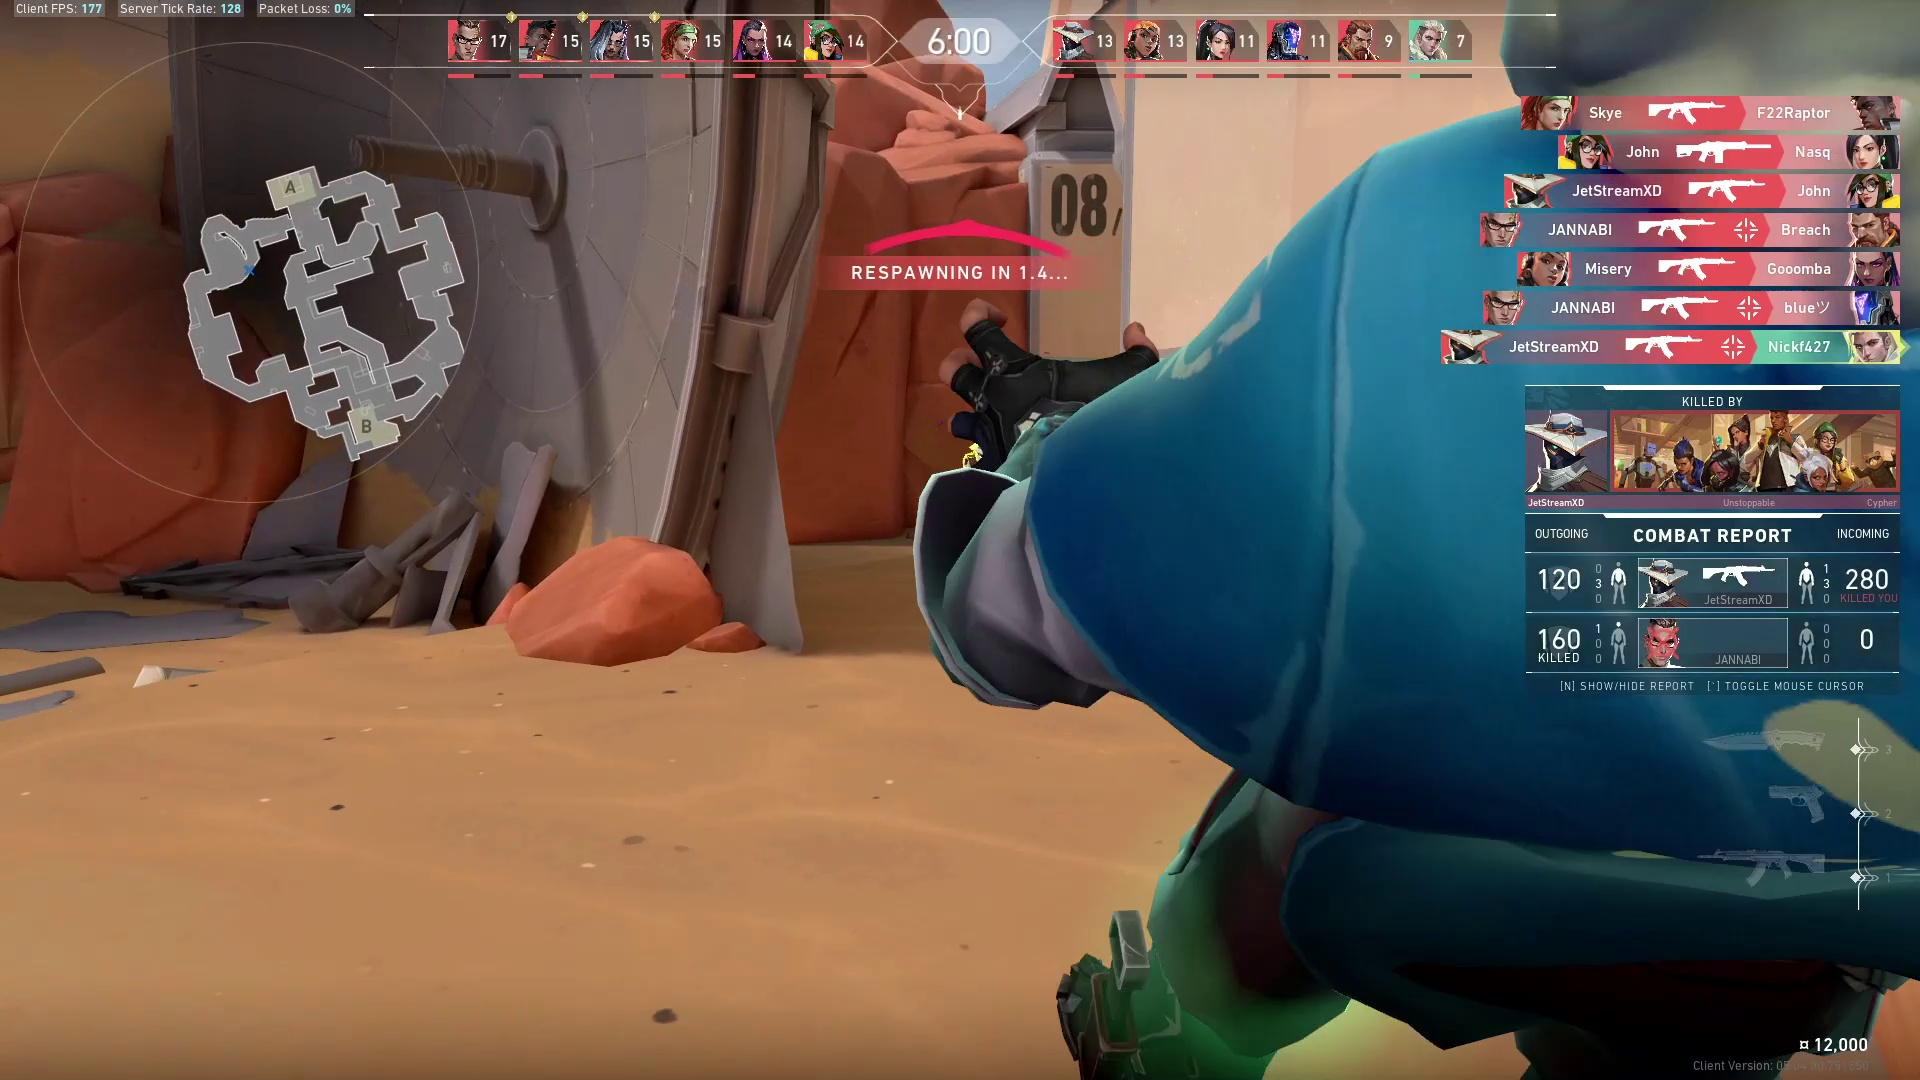enemy_gen: (957, 436, 986, 469)
